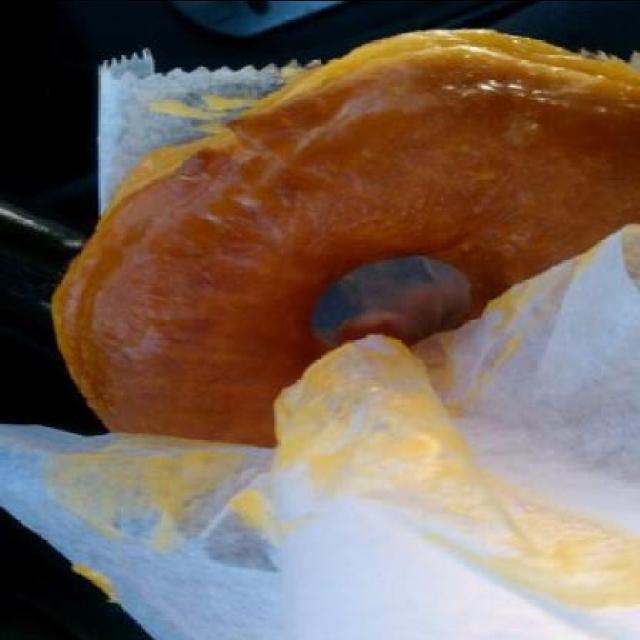Donuts: (27, 16, 638, 467)
